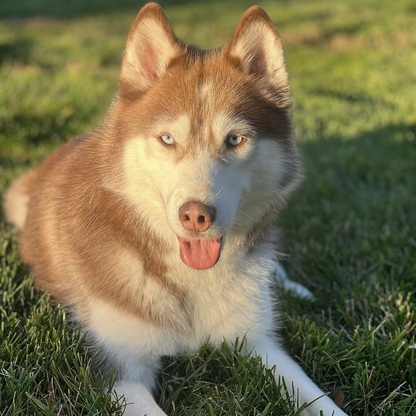husky: (1, 1, 354, 416)
